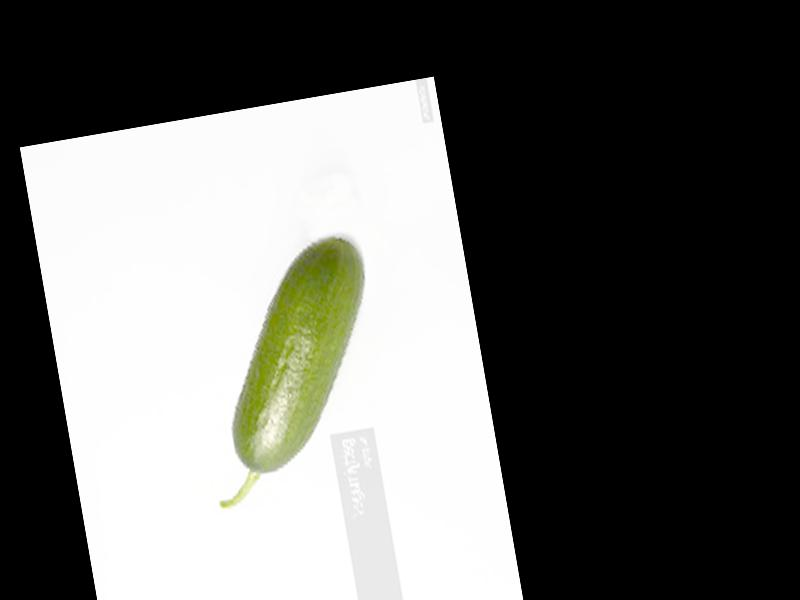Cucumber: (181, 234, 402, 513)
